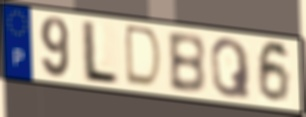6: (254, 39, 293, 108)
9: (39, 15, 74, 80)
B: (165, 32, 208, 97)
D: (124, 22, 165, 91)
L: (80, 19, 121, 87)
Q: (208, 37, 253, 101)
